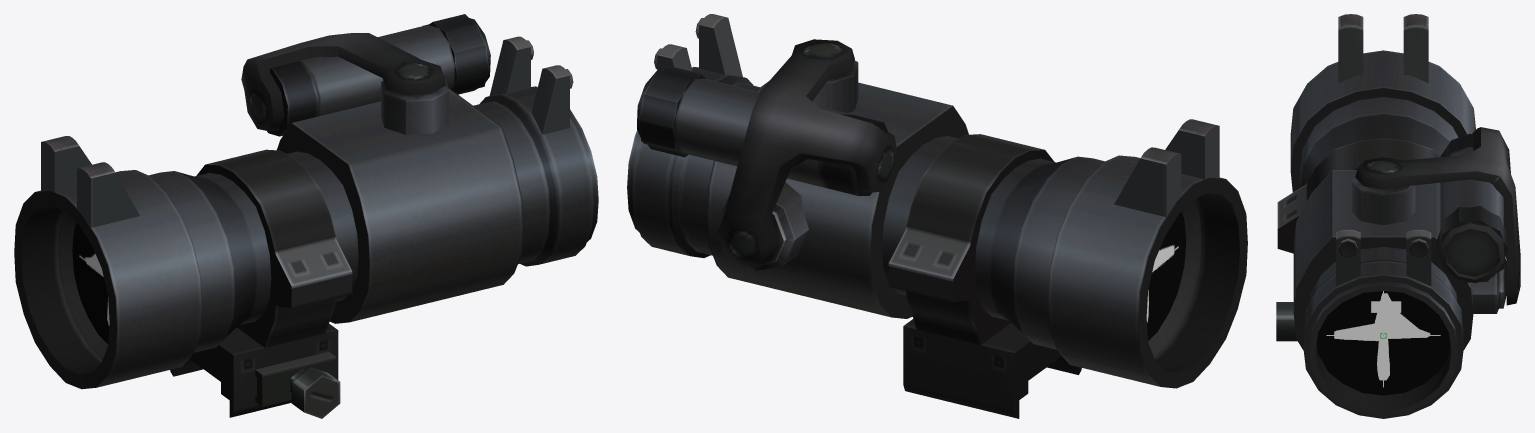
Rendered from Scopes_2xAimpoint_Base_1_Mod.FBX.
The picture shows the model from 3 angles, left to right: view 1: azimuth 30°, elevation 25°; view 2: azimuth 150°, elevation 25°; view 3: azimuth 270°, elevation 25°; orthographic projection. The views are drawn at different scales.
Visible parts, largest first — view 1: Scopes_2xAimpoint_Base_1_Mod, Lens_2xAimpoint_Base_1_Mod_2; view 2: Scopes_2xAimpoint_Base_1_Mod, Lens_2xAimpoint_Base_1_Mod_2; view 3: Scopes_2xAimpoint_Base_1_Mod, Lens_2xAimpoint_Base_1_Mod_1.
Boxes of the visible parts, x1,y1,x2,y2 form: Scopes_2xAimpoint_Base_1_Mod: (14,14,598,418); Lens_2xAimpoint_Base_1_Mod_2: (72,223,109,344); Scopes_2xAimpoint_Base_1_Mod: (627,14,1247,418); Lens_2xAimpoint_Base_1_Mod_2: (1146,211,1186,340); Scopes_2xAimpoint_Base_1_Mod: (1276,14,1520,418); Lens_2xAimpoint_Base_1_Mod_1: (1316,291,1450,395).
Bounding box in the file's own units: 20.93 × 11.26 × 9.97.
